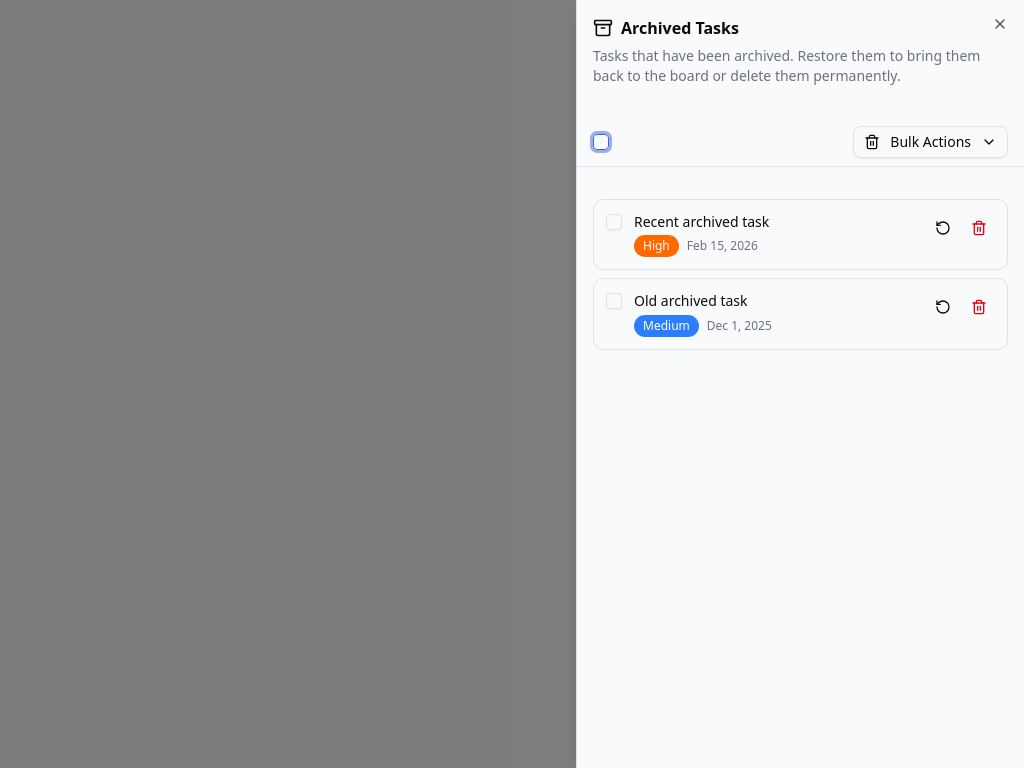
Scenario: ArchivedTasksSheet › select all checkbox selects and deselects all tasks
This screenshot has width=1024, height=768.
What coordinates should you click on to do the following:
click the checkbox named "Select all"
I would click on:
 (601, 142)
Its box is [593,134,609,150].
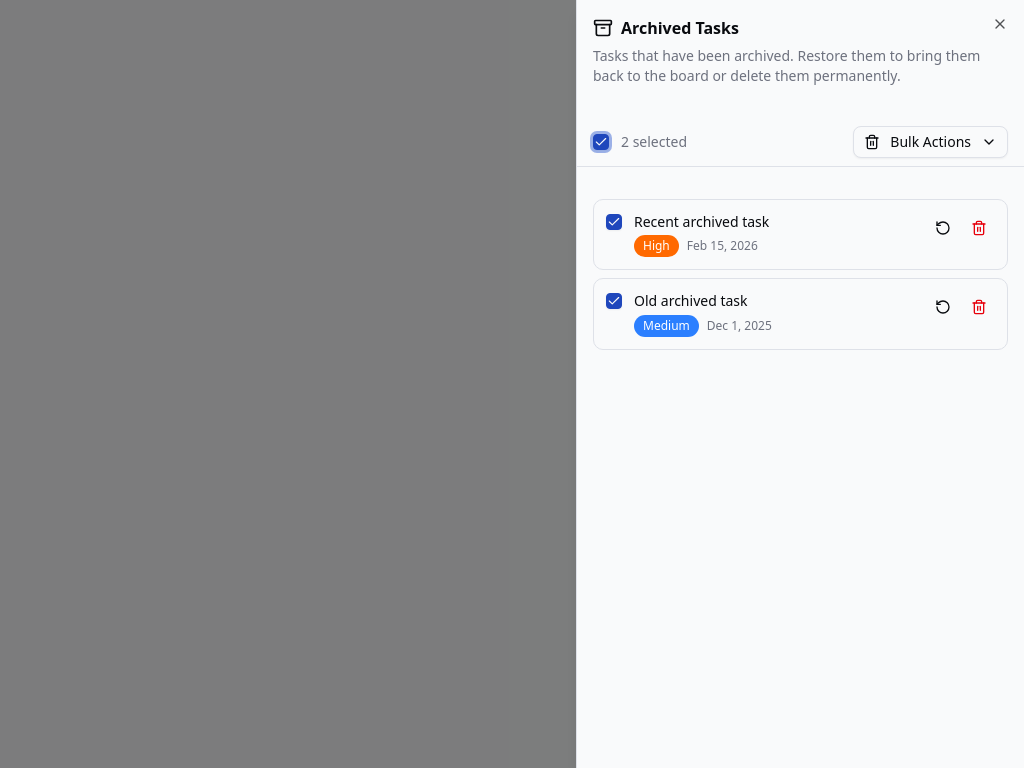
expect the checkbox named "Select Recent archived task" is checked: met, box [606,214,622,230]
expect the checkbox named "Select Old archived task" is checked: met, box [606,293,622,309]
What coordinates should you click on to do the following:
click the checkbox named "Select all"
I would click on:
 (601, 142)
Its box is [593,134,609,150].
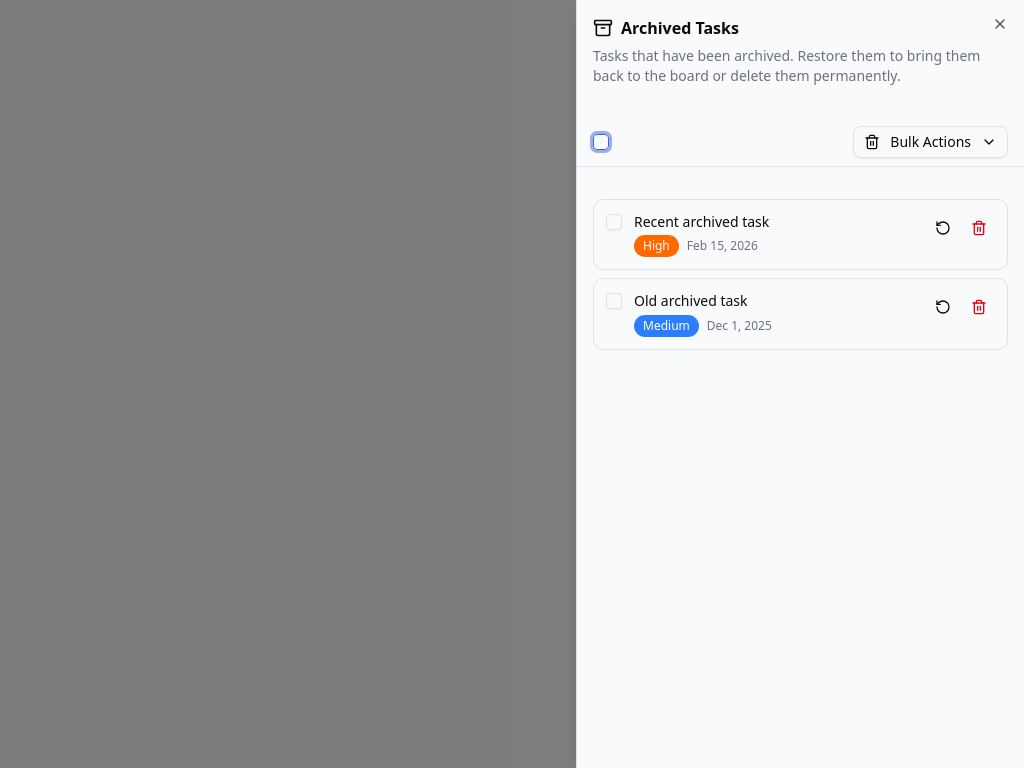
expect the checkbox named "Select Recent archived task" is not checked: met, box [606,214,622,230]
expect the checkbox named "Select Old archived task" is not checked: met, box [606,293,622,309]
